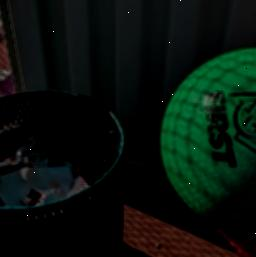algae: (157, 44, 256, 233)
